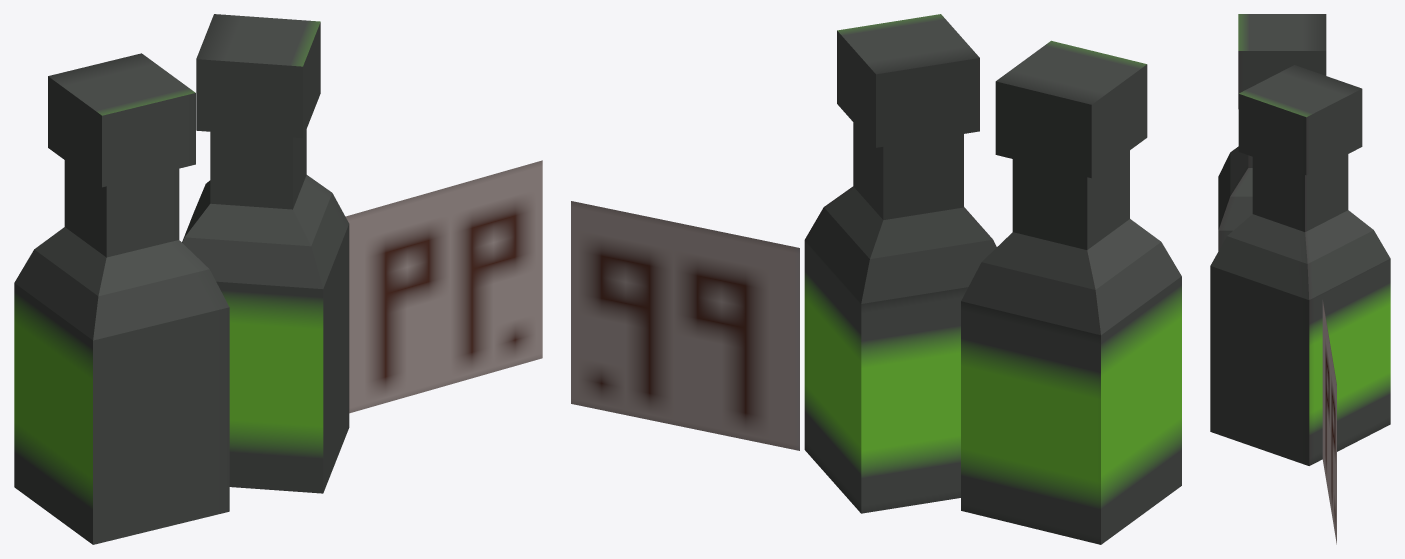
Rendered from Remedios.fbx.
The picture shows the model from 3 angles, left to right: view 1: azimuth 30°, elevation 25°; view 2: azimuth 150°, elevation 25°; view 3: azimuth 270°, elevation 25°; orthographic projection. The views are drawn at different scales.
Parts seen in each view (by area): view 1: Remedios; view 2: Remedios; view 3: Remedios.
Part boxes in pixels (left/top/right/bottom): Remedios: left=14, top=14, right=542, bottom=544; Remedios: left=571, top=14, right=1181, bottom=544; Remedios: left=1210, top=14, right=1390, bottom=544.
Bounding box in the file's own units: 71.64 × 26.34 × 54.36.
